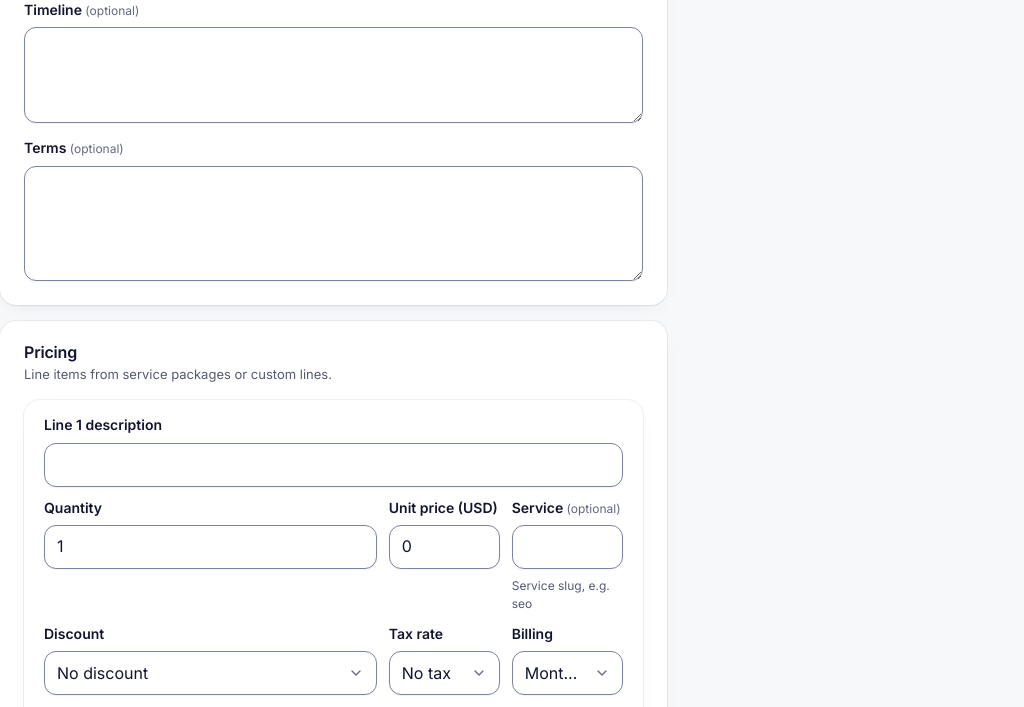
Scenario: Proposal builder › shows totals from the preview API, never computed in the browser
(page scrolled)
Type "SEO retainer" into the field labelled "Line 1 description". click: (333, 464)
box: [44,442,623,486]
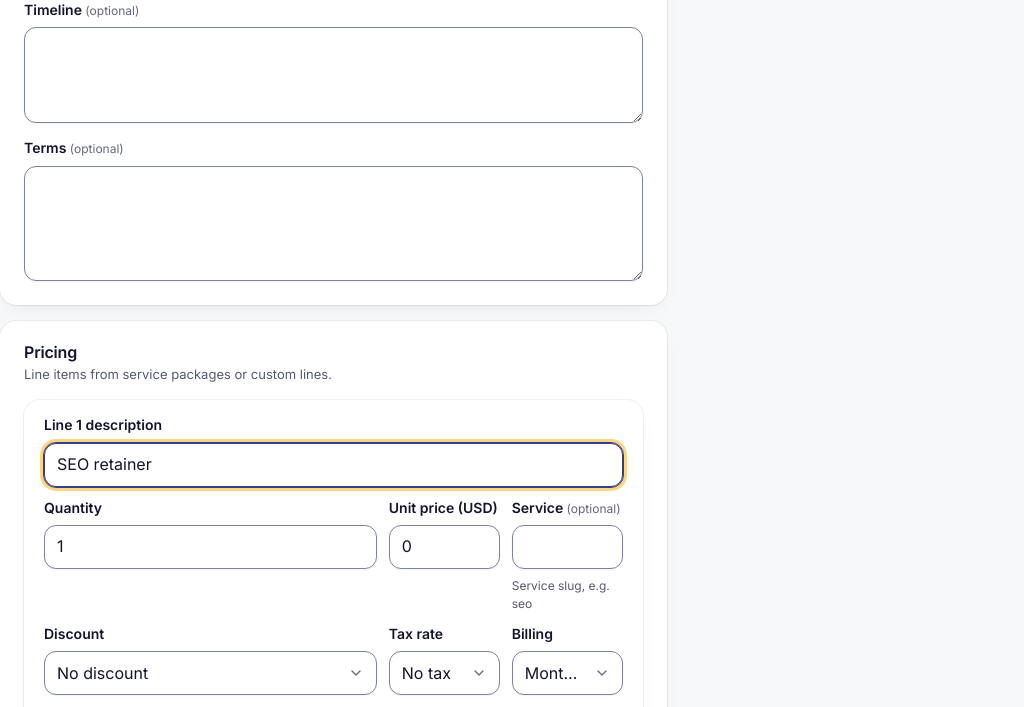
Replace the text in the number field labelled "Unit price (USD)" with "999". click: (444, 547)
box: [389,525,500,569]
(page scrolled)
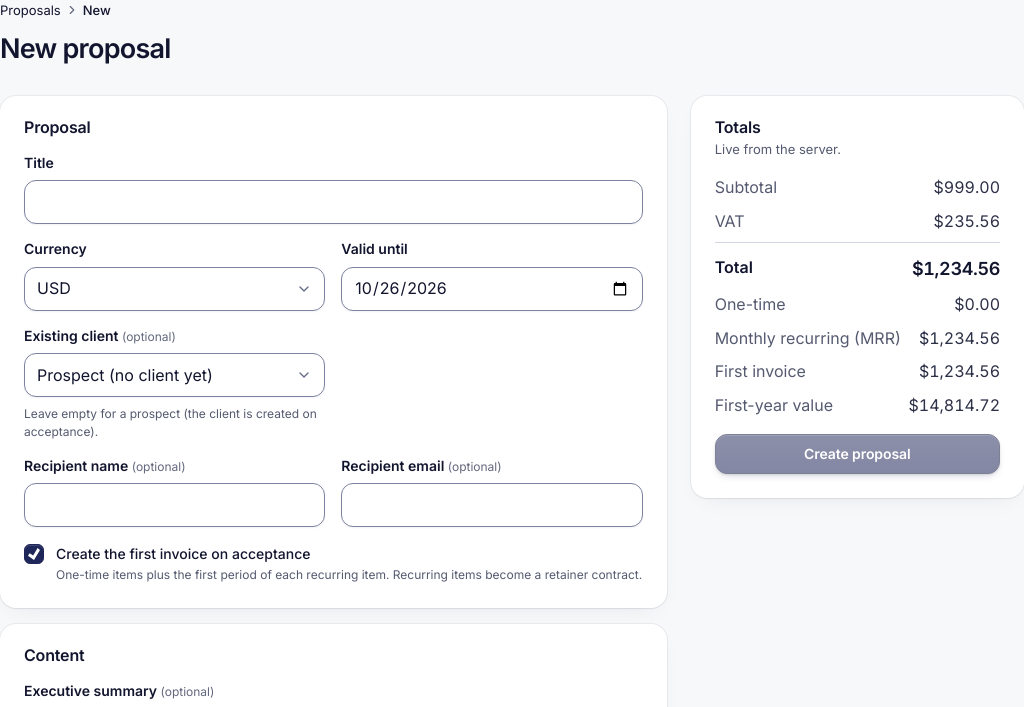
Expected: the element named "Totals" shows "$1,234.56", [912,258,1000,279]
Expected: the element named "Totals" shows "VAT", [715,211,745,231]
Expected: the element named "Totals" shows "$14,814.72", [908,395,1000,415]
